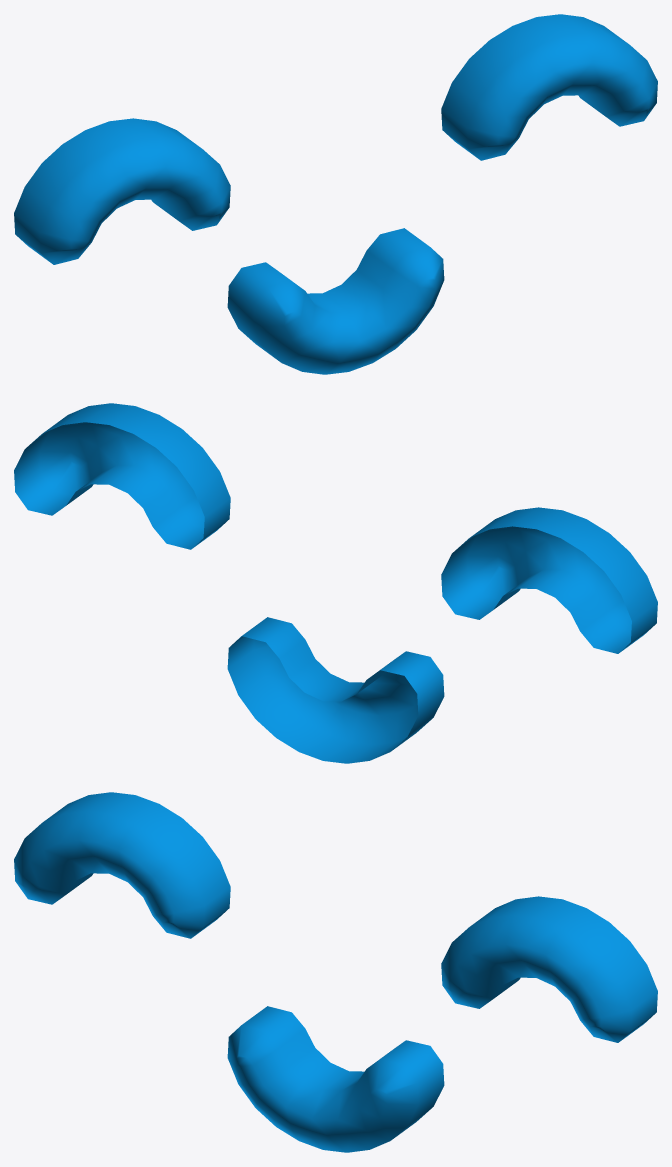
The model's file is Drone_002_Face_Usual_001.fbx.
3 renders of one model, top to bottom at view 1: azimuth 30°, elevation 25°; view 2: azimuth 150°, elevation 25°; view 3: azimuth 330°, elevation 25°, orthographic.
Visible parts, largest first — view 1: Drone_002_Face_Usual_001; view 2: Drone_002_Face_Usual_001; view 3: Drone_002_Face_Usual_001.
Boxes of the visible parts, x1,y1,x2,y2 form: Drone_002_Face_Usual_001: (14,14,657,374); Drone_002_Face_Usual_001: (14,403,657,763); Drone_002_Face_Usual_001: (14,792,657,1152).
Size of the model in its own units: 11.55 by 1.2 by 5.07.
